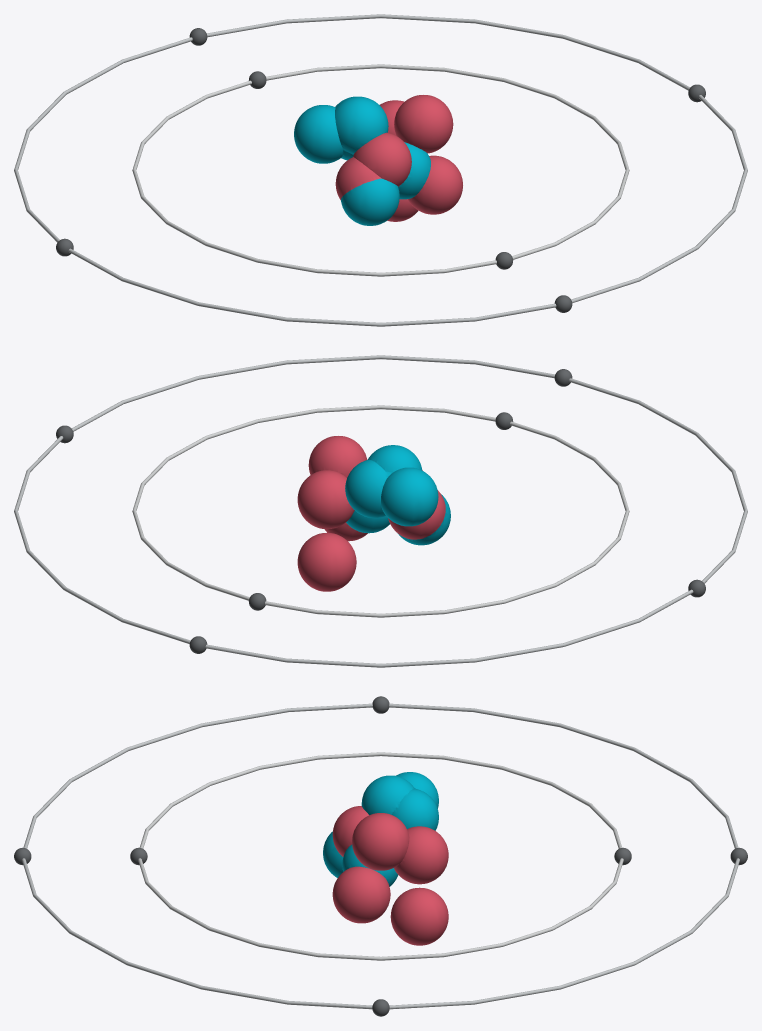
File: carbon.glb
3 renders of one model, top to bottom at view 1: azimuth 30°, elevation 25°; view 2: azimuth 150°, elevation 25°; view 3: azimuth 270°, elevation 25°, orthographic.
Visible parts, largest first — view 1: Mesh_Mesh_head_geo.001_lambert2SG.001_0; view 2: Mesh_Mesh_head_geo.001_lambert2SG.001_0; view 3: Mesh_Mesh_head_geo.001_lambert2SG.001_0.
Boxes of the visible parts, <box> form: Mesh_Mesh_head_geo.001_lambert2SG.001_0: <box>14,14,747,326</box>; Mesh_Mesh_head_geo.001_lambert2SG.001_0: <box>14,355,747,667</box>; Mesh_Mesh_head_geo.001_lambert2SG.001_0: <box>14,696,747,1016</box>.
Size of the model in its own units: 75.8 by 16 by 75.8.
